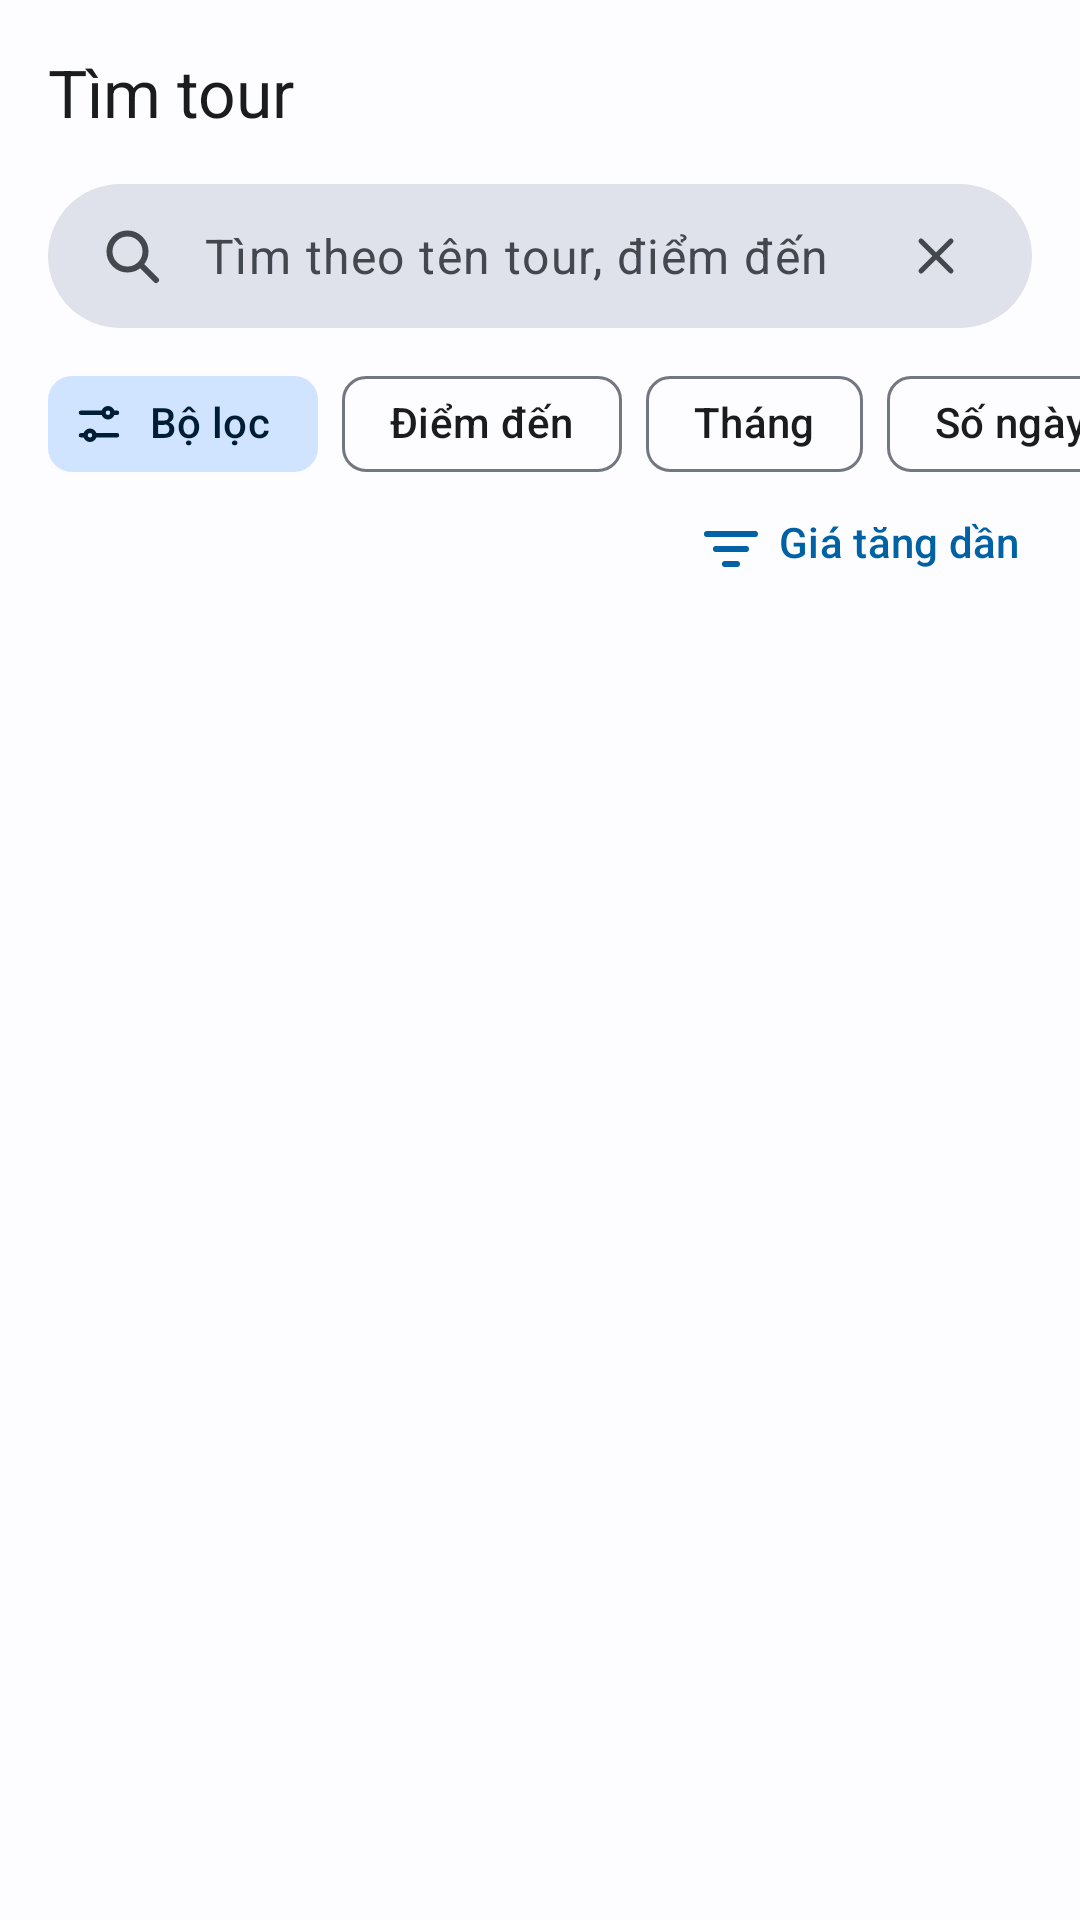

Icon click points for this 1080×1920 phone screenshot, format (x=x, y=y):
search: (x=132, y=256)
Xóa nội dung tìm: (x=936, y=256)
